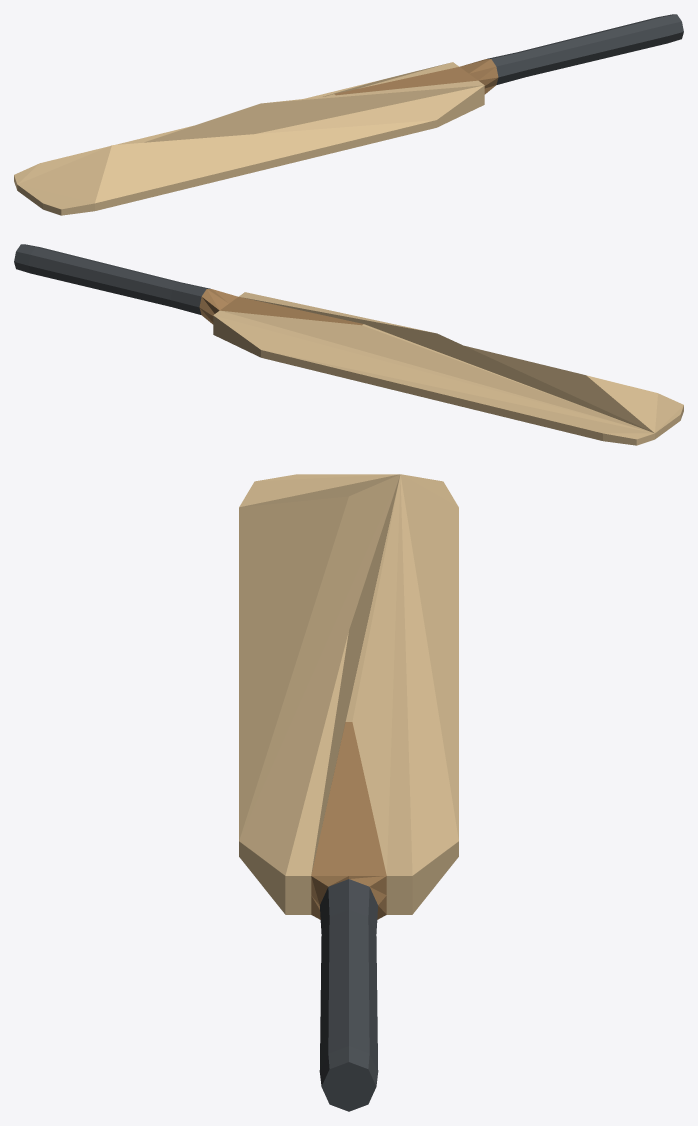
The picture shows the model from 3 angles, top to bottom: view 1: azimuth 30°, elevation 25°; view 2: azimuth 150°, elevation 25°; view 3: azimuth 270°, elevation 25°; orthographic projection. The views are drawn at different scales.
Visible parts, largest first — view 1: WholeGroundFootRidgedBladeAndStoppedVSplice, WholeGroundFootVSplicedTongueAndRoundGrip; view 2: WholeGroundFootRidgedBladeAndStoppedVSplice, WholeGroundFootVSplicedTongueAndRoundGrip; view 3: WholeGroundFootRidgedBladeAndStoppedVSplice, WholeGroundFootVSplicedTongueAndRoundGrip.
Boxes of the visible parts, x1,y1,x2,y2 form: WholeGroundFootRidgedBladeAndStoppedVSplice: [14, 62, 484, 215]; WholeGroundFootVSplicedTongueAndRoundGrip: [334, 14, 683, 95]; WholeGroundFootRidgedBladeAndStoppedVSplice: [213, 292, 683, 445]; WholeGroundFootVSplicedTongueAndRoundGrip: [14, 244, 363, 325]; WholeGroundFootRidgedBladeAndStoppedVSplice: [239, 474, 458, 914]; WholeGroundFootVSplicedTongueAndRoundGrip: [311, 722, 386, 1111].
Bounding box in the file's own units: 0.87 × 0.052 × 0.128.
